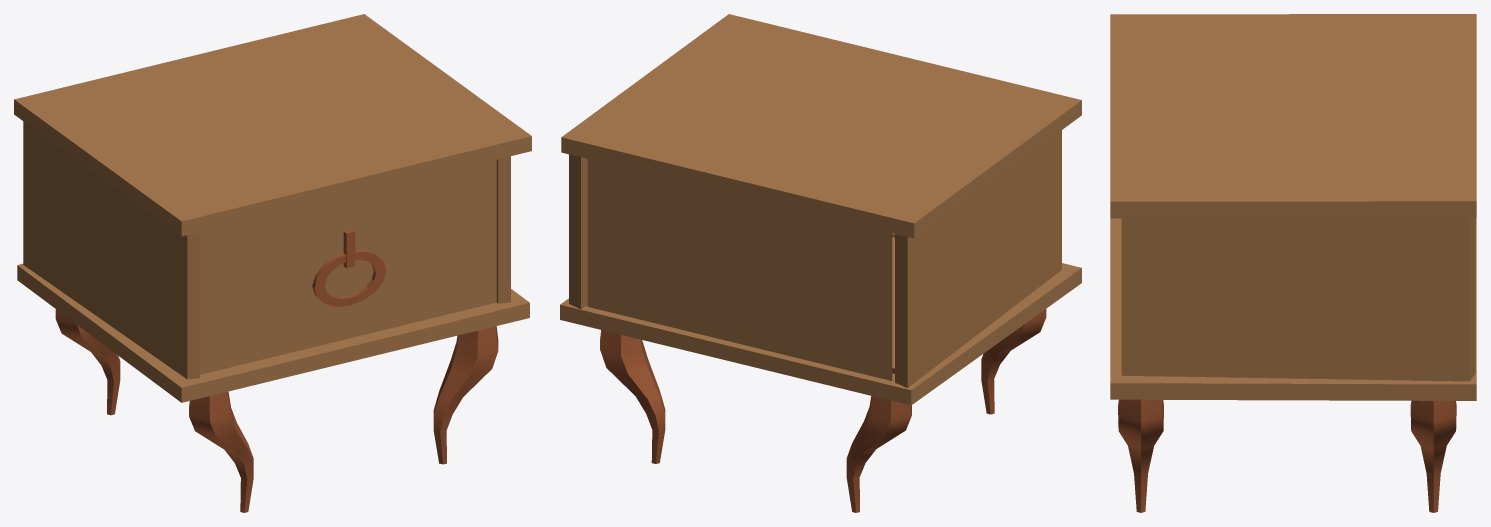
Rendered from Drawer.fbx.
The picture shows the model from 3 angles, left to right: view 1: azimuth 30°, elevation 25°; view 2: azimuth 150°, elevation 25°; view 3: azimuth 270°, elevation 25°; orthographic projection. The views are drawn at different scales.
Parts seen in each view (by area): view 1: Drawere; view 2: Drawere; view 3: Drawere.
Boxes of the visible parts, box(x1,y1,x2,y2) form: Drawere: box(14, 14, 531, 512); Drawere: box(560, 14, 1081, 512); Drawere: box(1110, 14, 1476, 512).
Size of the model in its own units: 70.91 by 61.39 by 58.32.
